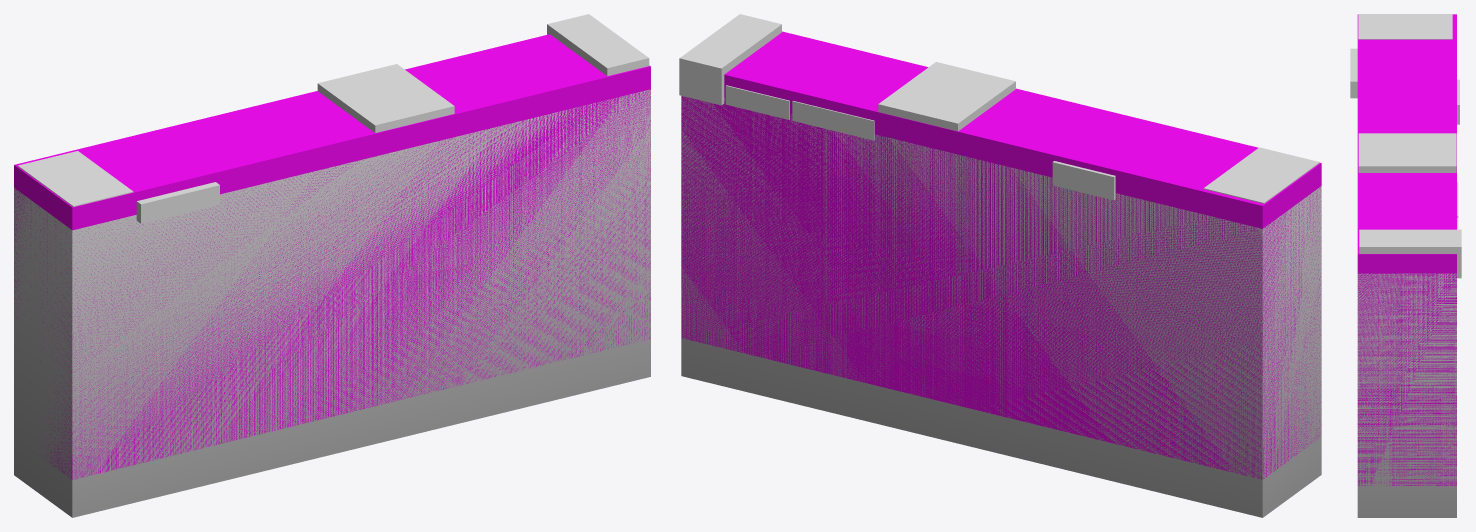
Rendered from stone_wall.glb.
The picture shows the model from 3 angles, left to right: view 1: azimuth 30°, elevation 25°; view 2: azimuth 150°, elevation 25°; view 3: azimuth 270°, elevation 25°; orthographic projection. The views are drawn at different scales.
Visible parts, largest first — view 1: stone_wall, stone_wall_hull; view 2: stone_wall_hull, stone_wall; view 3: stone_wall_hull, stone_wall.
Boxes of the visible parts, x1,y1,x2,y2 form: stone_wall: (14,14,650,517); stone_wall_hull: (14,34,650,479); stone_wall_hull: (681,31,1321,479); stone_wall: (679,14,1321,517); stone_wall_hull: (1357,14,1456,485); stone_wall: (1350,14,1461,517).
Bounding box in the file's own units: 4 × 2.1 × 0.784.
